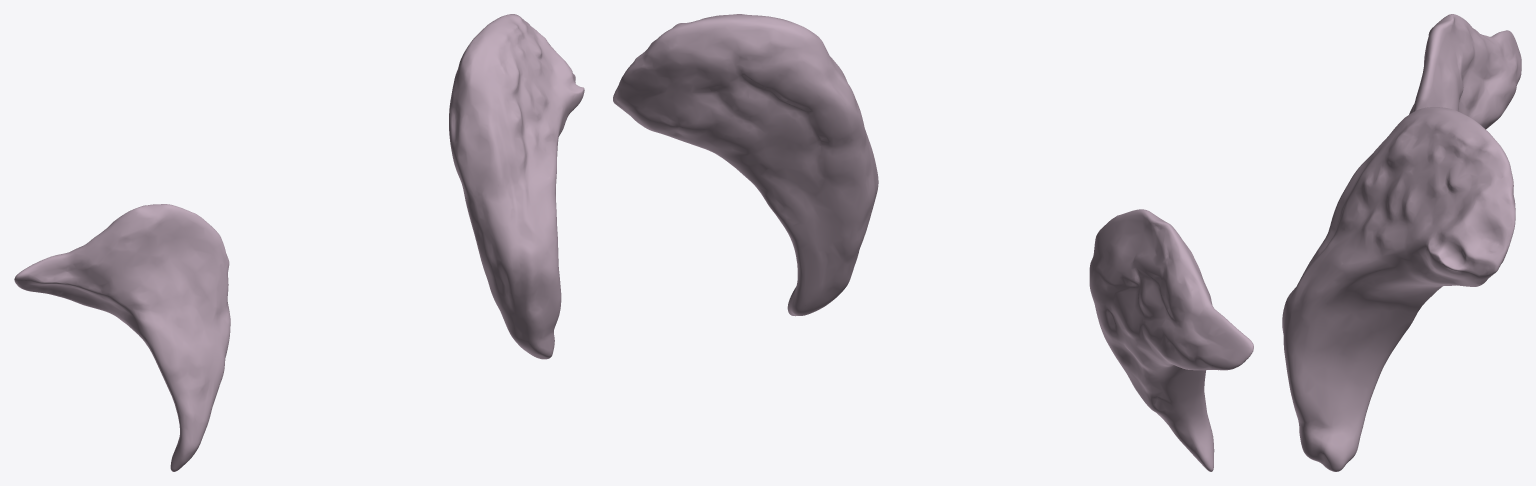
Rendered from adrenal.glb.
The picture shows the model from 3 angles, left to right: view 1: azimuth 30°, elevation 25°; view 2: azimuth 150°, elevation 25°; view 3: azimuth 270°, elevation 25°; orthographic projection. The views are drawn at different scales.
Visible parts, largest first — view 1: world; view 2: world; view 3: world.
Boxes of the visible parts, x1,y1,x2,y2 form: world: [14, 14, 584, 471]; world: [613, 14, 1253, 471]; world: [1282, 14, 1521, 471].
Bounding box in the file's own units: 2 × 1.14 × 0.6263.
